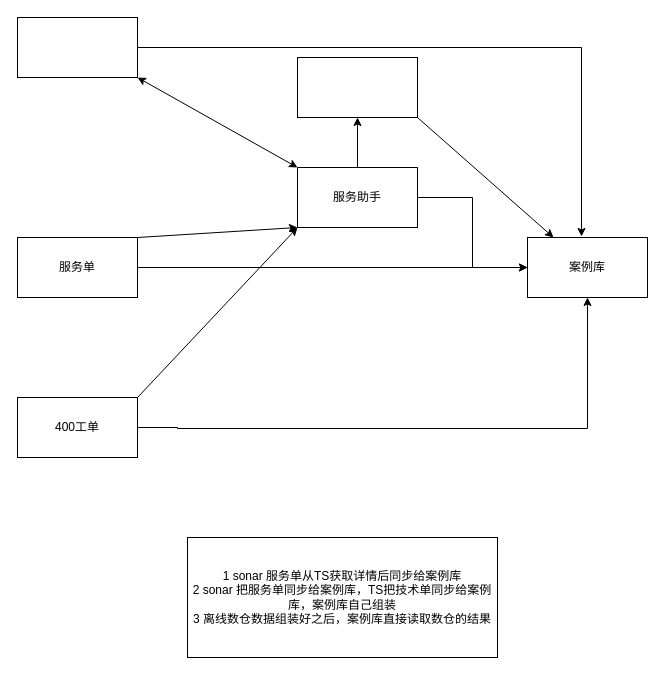
Image size: 665x675. Some labels were removed from this diagram. The centre of each missing label's shape, as x and y in pixels:
CEP TS: pixel 77 47
技术单: pixel 357 87
